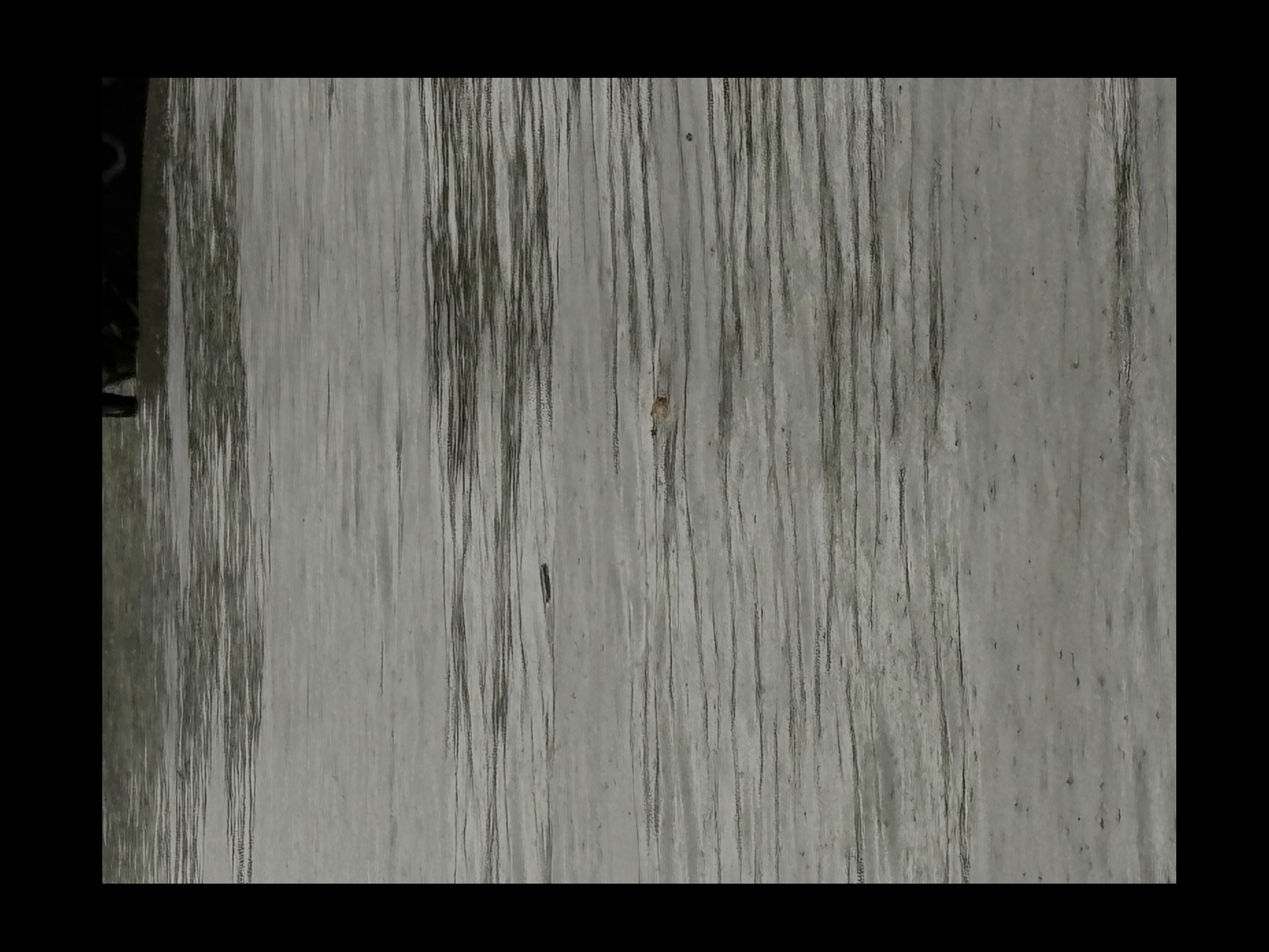Natural wastes: (678, 374, 708, 416), (567, 544, 591, 590)
